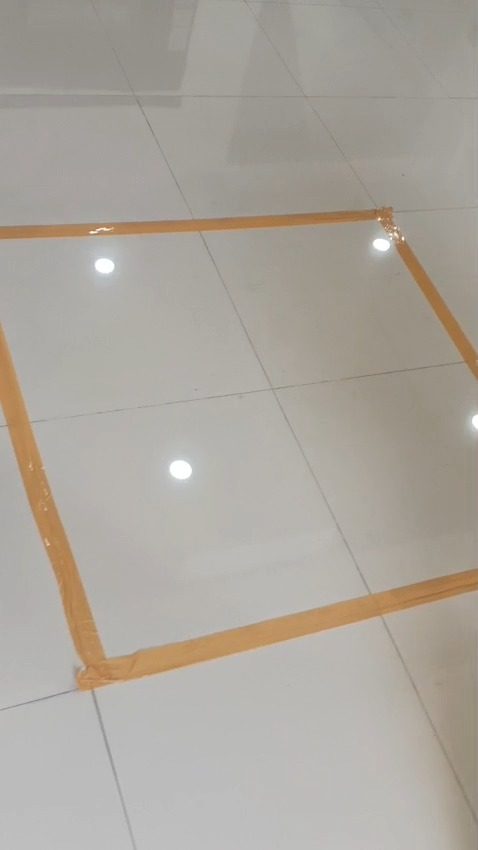floor marking: (0, 327, 477, 689), (0, 207, 477, 376)
